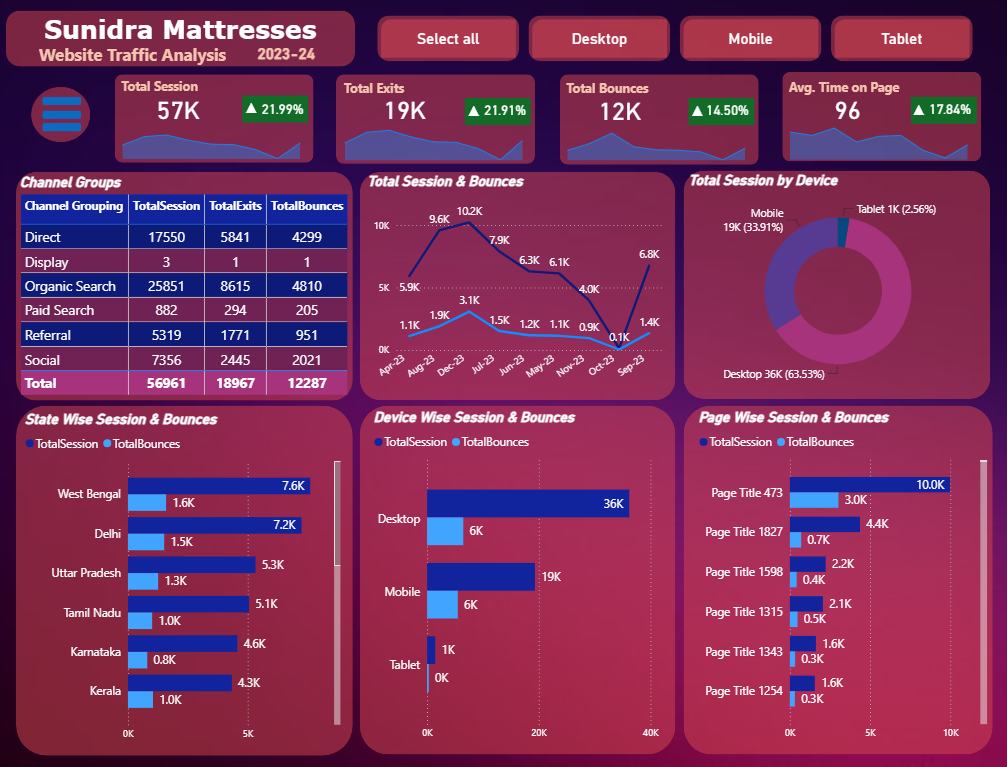

The dashboard page shown, as its layout file describes it:
{"tool":"powerbi","page":{"name":"Web Marketing","canvas":[1260,960],"ordinal":1},"visuals":[{"type":"shape","box":[31.1,100,75.4,70.5],"z":0,"group":"g1"},{"type":"shape","box":[12.3,207.7,427.7,290.8],"z":0},{"type":"shape","box":[0,3.1,443.2,71.4],"z":1000},{"type":"shape","box":[44.8,113.4,49.6,10.9],"z":1000,"group":"g1"},{"type":"textbox","box":[0,3.1,443.1,56.9],"z":2000},{"type":"shape","box":[44.8,129.5,49.6,10.9],"z":2000,"group":"g1"},{"type":"shape","box":[137.4,83.6,252.5,112.5],"z":3000},{"type":"shape","box":[44.8,145.8,49.6,10.9],"z":3000,"group":"g1"},{"type":"advancedSlicerVisual","fields":{"Values":["WebSite_Analysis.Device Category"]},"box":[466.6,5.5,768.4,68.6],"z":4000},{"type":"areaChart","fields":{"Category":["Calender.Month"],"Y":["Measures-Web Marketing.TotalSession"]},"box":[131.9,133,258,64.5],"z":5000},{"type":"shape","box":[300.3,110.9,83.7,34.3],"z":6000},{"type":"card","fields":{"Values":["Measures-Web Marketing.Session Growth%"]},"box":[299.5,105.6,102.2,45.8],"z":7000},{"type":"card","fields":{"Values":["Measures-Web Marketing.Session%_Icon"]},"box":[295.4,113.5,32.3,31.8],"z":8000},{"type":"textbox","box":[141.4,83,121.5,40.9],"z":9000},{"type":"shape","box":[419.7,83.6,252.7,114],"z":10000},{"type":"card","title":"YTD Revenue","fields":{"Values":["Measures-Web Marketing.TotalExits"]},"box":[400.8,92.4,209.8,72.1],"z":11000},{"type":"areaChart","fields":{"Category":["Calender.Month"],"Y":["Measures-Web Marketing.TotalExits"]},"box":[414.4,135.2,258.1,64.5],"z":12000},{"type":"shape","box":[583.3,113.8,83.7,34.3],"z":13000},{"type":"card","fields":{"Values":["Measures-Web Marketing.Exits Growth%"]},"box":[582.4,108.5,102.2,45.8],"z":14000},{"type":"card","fields":{"Values":["Measures-Web Marketing.Exits%_Icon"]},"box":[578.3,116.3,32.3,31.8],"z":15000},{"type":"textbox","box":[424.4,85.9,121.5,40.9],"z":16000},{"type":"card","title":"YTD Revenue","fields":{"Values":["Measures-Web Marketing.TotalSession"]},"box":[113.1,91.8,211.5,72.1],"z":17000},{"type":"shape","box":[702.7,83.6,252.7,115.1],"z":18000},{"type":"card","title":"YTD Revenue","fields":{"Values":["Measures-Web Marketing.TotalBounces"]},"box":[674.1,93.2,210.3,71.7],"z":19000},{"type":"areaChart","fields":{"Category":["Calender.Month"],"Y":["Measures-Web Marketing.TotalBounces"]},"box":[697.3,135.2,258.1,64.5],"z":20000},{"type":"shape","box":[866.2,113.7,83.7,34.3],"z":21000},{"type":"card","fields":{"Values":["Measures-Web Marketing.Bounces Growth%"]},"box":[865.4,108.5,102.2,45.8],"z":22000},{"type":"card","fields":{"Values":["Measures-Web Marketing.Bounces%_Icon"]},"box":[861.3,116.3,32.3,31.8],"z":23000},{"type":"textbox","box":[706.7,85,149.9,42.4],"z":24000},{"type":"shape","box":[984.9,81.7,252.7,114],"z":25000},{"type":"card","title":"YTD Revenue","fields":{"Values":["Measures-Web Marketing.Avg Time on Page"]},"box":[962.8,92,210.8,72],"z":26000},{"type":"areaChart","fields":{"Category":["Calender.Month"],"Y":["Measures-Web Marketing.Avg Time on Page"]},"box":[979.7,133.8,258.1,64.5],"z":27000},{"type":"shape","box":[1148.6,112.4,83.7,34.3],"z":28000},{"type":"card","fields":{"Values":["Measures-Web Marketing.Avg Time on Page Growth%"]},"box":[1147.7,107.1,102.2,45.8],"z":29000},{"type":"card","fields":{"Values":["Measures-Web Marketing.ATOP%_Icon"]},"box":[1143.6,114.9,32.3,31.8],"z":30000},{"type":"textbox","box":[989.3,84.8,184.2,40.7],"z":31000},{"type":"tableEx","title":"Channel Groups","fields":{"Values":["WebSite_Analysis.Channel Grouping","Measures-Web Marketing.TotalSession","Measures-Web Marketing.TotalExits","Measures-Web Marketing.TotalBounces"]},"box":[12.3,210.8,429.2,292.3],"z":32000},{"type":"shape","box":[449.8,208.6,401,290.1],"z":33000},{"type":"lineChart","title":"Total Session & Bounces","fields":{"Y":["Measures-Web Marketing.TotalSession","Measures-Web Marketing.TotalBounces"],"Category":["Calender.Month"]},"box":[454.7,210.3,383,282],"z":34000},{"type":"shape","box":[860.6,207,389.5,290.1],"z":35000},{"type":"group","id":"g1","title":"Group 1","box":[31.1,100,75.4,70.5],"z":36000},{"type":"donutChart","title":"Total Session by Device","fields":{"Category":["WebSite_Analysis.Device Category"],"Y":["Measures-Web Marketing.TotalSession"]},"box":[862.2,208.6,389.5,282],"z":37000},{"type":"shape","box":[449.8,505.3,401,443.3],"z":38000},{"type":"shape","box":[12.3,504.6,427.7,444.6],"z":39000},{"type":"clusteredBarChart","title":"State Wise Session & Bounces","fields":{"Category":["WebSite_Analysis.State"],"Y":["Measures-Web Marketing.TotalSession","Measures-Web Marketing.TotalBounces"]},"box":[18.5,510.8,410.8,427.7],"z":40000},{"type":"clusteredBarChart","title":"Device Wise Session & Bounces","fields":{"Category":["WebSite_Analysis.Device Category"],"Y":["Measures-Web Marketing.TotalSession","Measures-Web Marketing.TotalBounces"]},"box":[461.3,510.2,376.5,428.7],"z":41000},{"type":"shape","box":[31.1,100,75.4,70.5],"z":42000},{"type":"textbox","box":[35.9,39.1,309.7,39.1],"z":43000},{"type":"shape","box":[860.6,505.3,392.8,443.3],"z":44000},{"type":"card","title":"YTD Revenue","fields":{"Values":["Measures-Sales.MaxFY"]},"box":[251,22.8,210.3,73.3],"z":45000},{"type":"clusteredBarChart","title":"Page Wise Session & Bounces","fields":{"Category":["WebSite_Analysis.Page Title"],"Y":["Measures-Web Marketing.TotalSession","Measures-Web Marketing.TotalBounces"]},"box":[875,509.9,375.9,428.5],"z":54000}]}

Visuals, with their boxes in screenshot pixels (x1, y1, x2, y2), scaled from the page's 1260x960 canvas onto the 1007x767 screenshot:
shape: BBox(25, 80, 85, 136)
shape: BBox(10, 166, 352, 398)
shape: BBox(0, 2, 354, 60)
shape: BBox(36, 91, 75, 99)
textbox: BBox(0, 2, 354, 48)
shape: BBox(36, 103, 75, 112)
shape: BBox(110, 67, 312, 157)
shape: BBox(36, 116, 75, 125)
advancedSlicerVisual - WebSite_Analysis.Device Category: BBox(373, 4, 987, 59)
areaChart - Calender.Month x Measures-Web Marketing.TotalSession: BBox(105, 106, 312, 158)
shape: BBox(240, 89, 307, 116)
card - Measures-Web Marketing.Session Growth%: BBox(239, 84, 321, 121)
card - Measures-Web Marketing.Session%_Icon: BBox(236, 91, 262, 116)
textbox: BBox(113, 66, 210, 99)
shape: BBox(335, 67, 537, 158)
"YTD Revenue" card: BBox(320, 74, 488, 131)
areaChart - Calender.Month x Measures-Web Marketing.TotalExits: BBox(331, 108, 537, 160)
shape: BBox(466, 91, 533, 118)
card - Measures-Web Marketing.Exits Growth%: BBox(465, 87, 547, 123)
card - Measures-Web Marketing.Exits%_Icon: BBox(462, 93, 488, 118)
textbox: BBox(339, 69, 436, 101)
"YTD Revenue" card: BBox(90, 73, 259, 131)
shape: BBox(562, 67, 764, 159)
"YTD Revenue" card: BBox(539, 74, 707, 132)
areaChart - Calender.Month x Measures-Web Marketing.TotalBounces: BBox(557, 108, 764, 160)
shape: BBox(692, 91, 759, 118)
card - Measures-Web Marketing.Bounces Growth%: BBox(692, 87, 773, 123)
card - Measures-Web Marketing.Bounces%_Icon: BBox(688, 93, 714, 118)
textbox: BBox(565, 68, 685, 102)
shape: BBox(787, 65, 989, 156)
"YTD Revenue" card: BBox(769, 74, 938, 131)
areaChart - Calender.Month x Measures-Web Marketing.Avg Time on Page: BBox(783, 107, 989, 158)
shape: BBox(918, 90, 985, 117)
card - Measures-Web Marketing.Avg Time on Page Growth%: BBox(917, 86, 999, 122)
card - Measures-Web Marketing.ATOP%_Icon: BBox(914, 92, 940, 117)
textbox: BBox(791, 68, 938, 100)
"Channel Groups" tableEx: BBox(10, 168, 353, 402)
shape: BBox(359, 167, 680, 398)
"Total Session & Bounces" lineChart: BBox(363, 168, 669, 393)
shape: BBox(688, 165, 999, 397)
"Group 1" group: BBox(25, 80, 85, 136)
"Total Session by Device" donutChart: BBox(689, 167, 1000, 392)
shape: BBox(359, 404, 680, 758)
shape: BBox(10, 403, 352, 758)
"State Wise Session & Bounces" clusteredBarChart: BBox(15, 408, 343, 750)
"Device Wise Session & Bounces" clusteredBarChart: BBox(369, 408, 670, 750)
shape: BBox(25, 80, 85, 136)
textbox: BBox(29, 31, 276, 62)
shape: BBox(688, 404, 1002, 758)
"YTD Revenue" card: BBox(201, 18, 369, 77)
"Page Wise Session & Bounces" clusteredBarChart: BBox(699, 407, 1000, 750)
